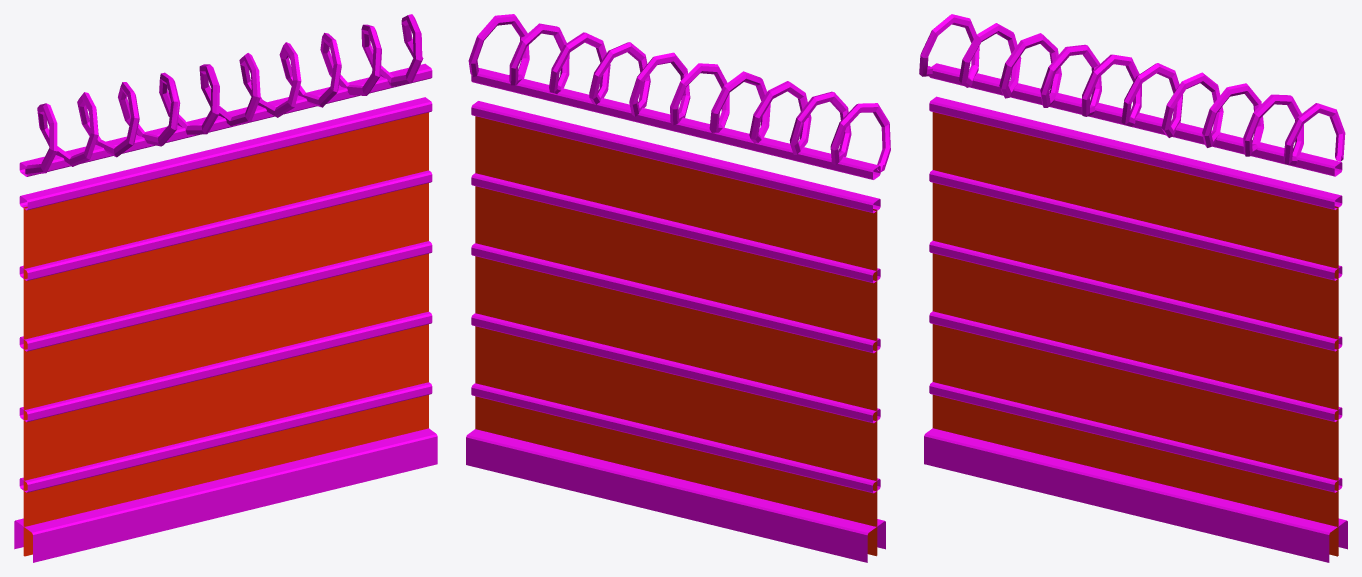
The model's file is Fence.fbx.
The picture shows the model from 3 angles, left to right: view 1: azimuth 30°, elevation 25°; view 2: azimuth 150°, elevation 25°; view 3: azimuth 330°, elevation 25°; orthographic projection.
Parts seen in each view (by area): view 1: Plane331; view 2: Plane331; view 3: Plane331.
Boxes of the visible parts, <box> form: Plane331: <box>14,14,437,562</box>; Plane331: <box>466,14,890,562</box>; Plane331: <box>919,14,1347,562</box>.
Size of the model in its own units: 403 by 425 by 62.13.
